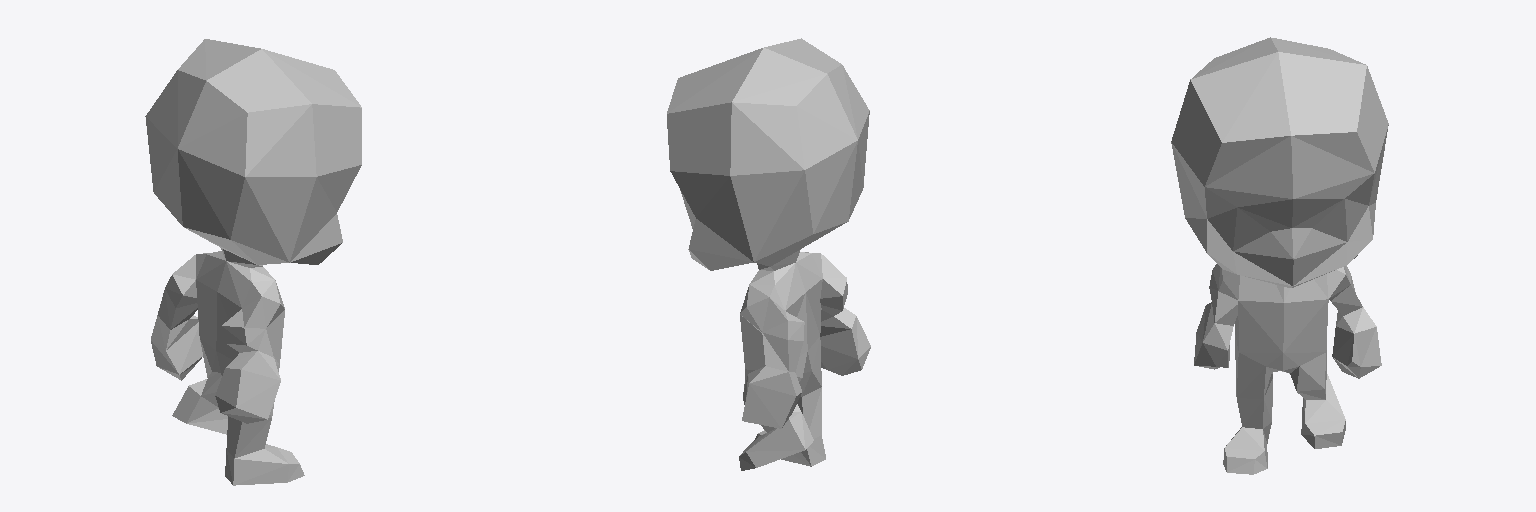
The model's file is male_anim_blender1.obj.
The picture shows the model from 3 angles: view 1: azimuth 30°, elevation 25°; view 2: azimuth 150°, elevation 25°; view 3: azimuth 270°, elevation 25°; orthographic projection.
Parts seen in each view (by area): view 1: male_anim_milkshape.ms3d.mo_male_anim_milkshape.ms3d.m.002; view 2: male_anim_milkshape.ms3d.mo_male_anim_milkshape.ms3d.m.002; view 3: male_anim_milkshape.ms3d.mo_male_anim_milkshape.ms3d.m.002.
Part boxes in pixels (x1,y1,x2,y2): male_anim_milkshape.ms3d.mo_male_anim_milkshape.ms3d.m.002: (145,39,361,485); male_anim_milkshape.ms3d.mo_male_anim_milkshape.ms3d.m.002: (667,38,870,470); male_anim_milkshape.ms3d.mo_male_anim_milkshape.ms3d.m.002: (1171,37,1388,474).
Size of the model in its own units: 0.633 by 1.48 by 0.7079.